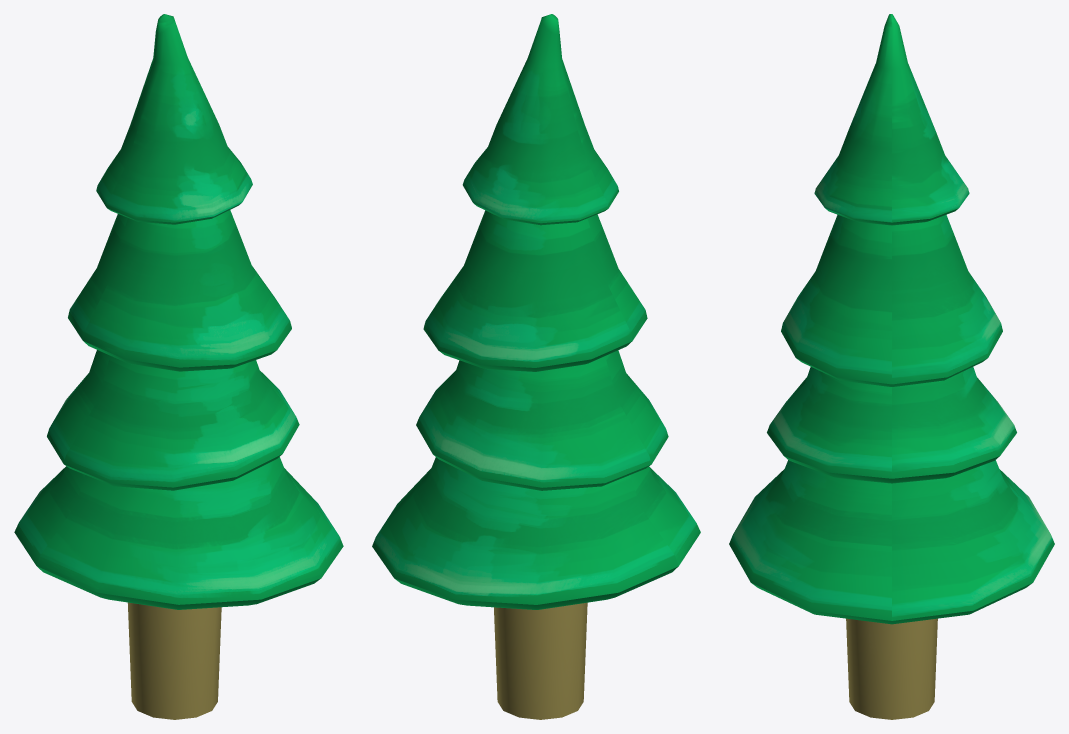
Rendered from arbol_MJClara.fbx.
3 views of the same model, side by side, from view 1: azimuth 30°, elevation 25°; view 2: azimuth 150°, elevation 25°; view 3: azimuth 270°, elevation 25° (orthographic).
Parts seen in each view (by area): view 1: Arbol_002; view 2: Arbol_002; view 3: Arbol_002.
Part boxes in pixels (x1=…): Arbol_002: x1=14, y1=14, x2=343, y2=719; Arbol_002: x1=372, y1=14, x2=700, y2=719; Arbol_002: x1=729, y1=14, x2=1054, y2=719.
Bounding box in the file's own units: 217 × 502 × 217.
